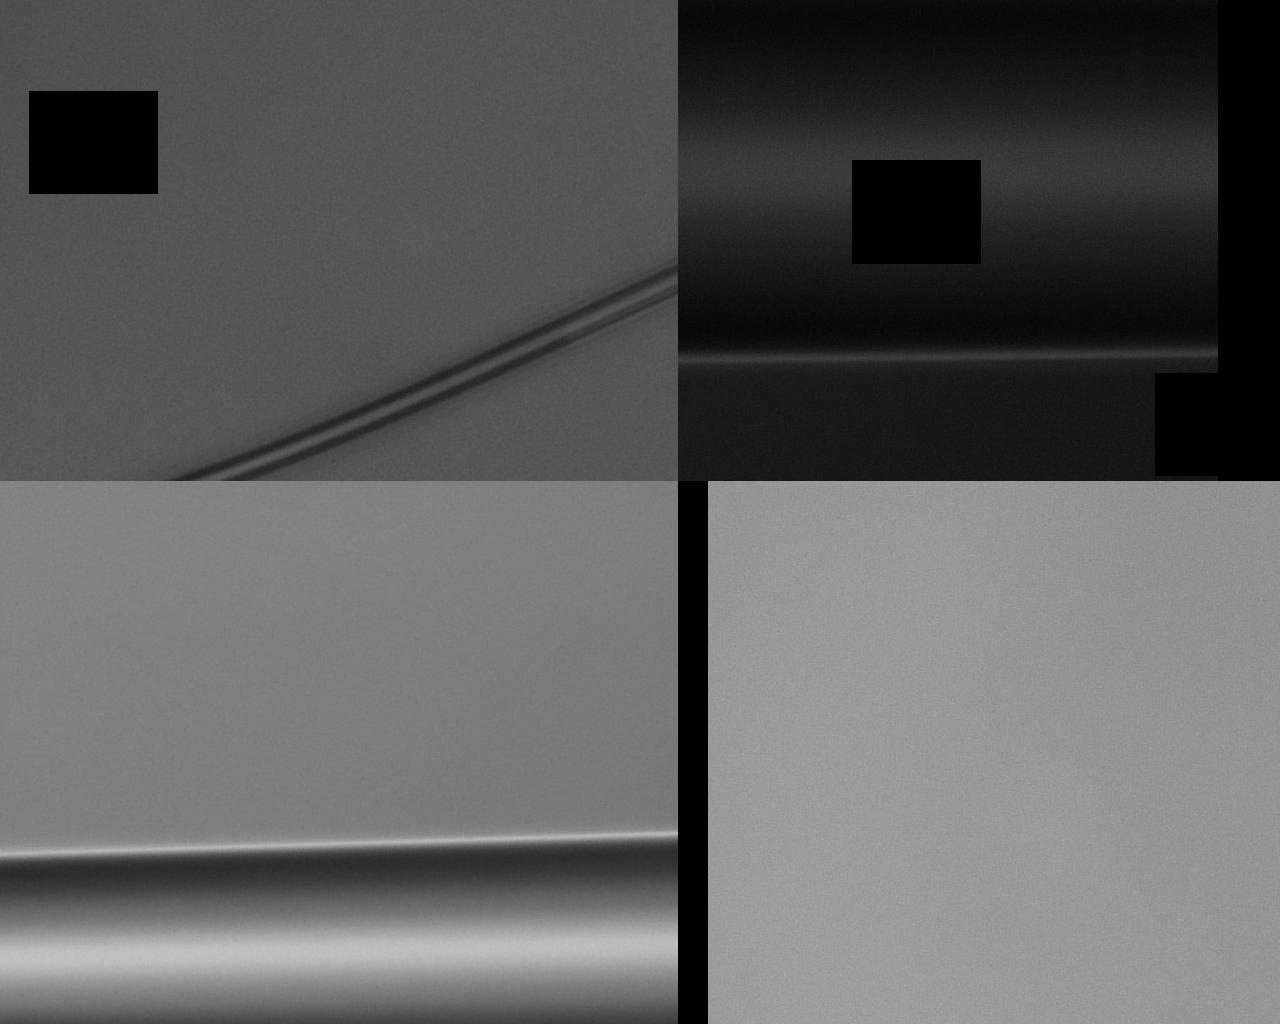fiber: (383, 0, 807, 481), (881, 0, 1280, 481), (832, 481, 1173, 1024), (639, 481, 779, 1024)
